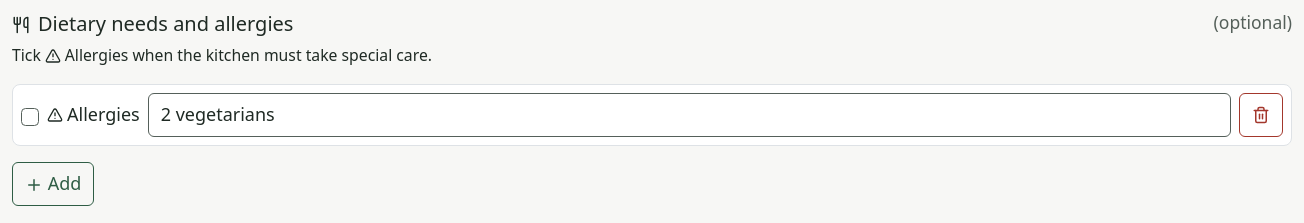
Test: PartyRequirements (editor) › removing every requirement leaves none (they are optional)
Step 1. Click the button named "Remove requirement 1" → (1261, 115), box [1239,93,1283,137]
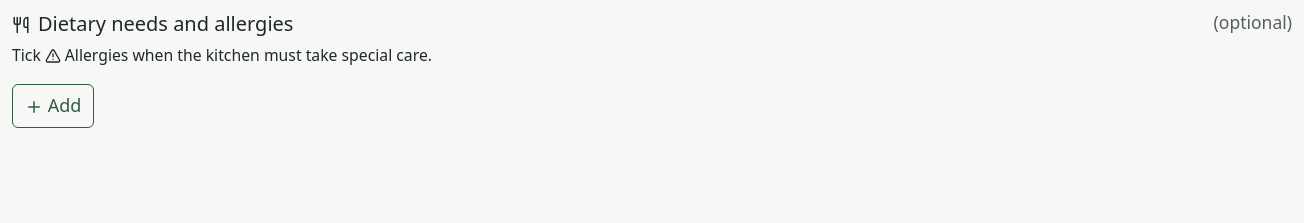
Expected: no fields are shown
